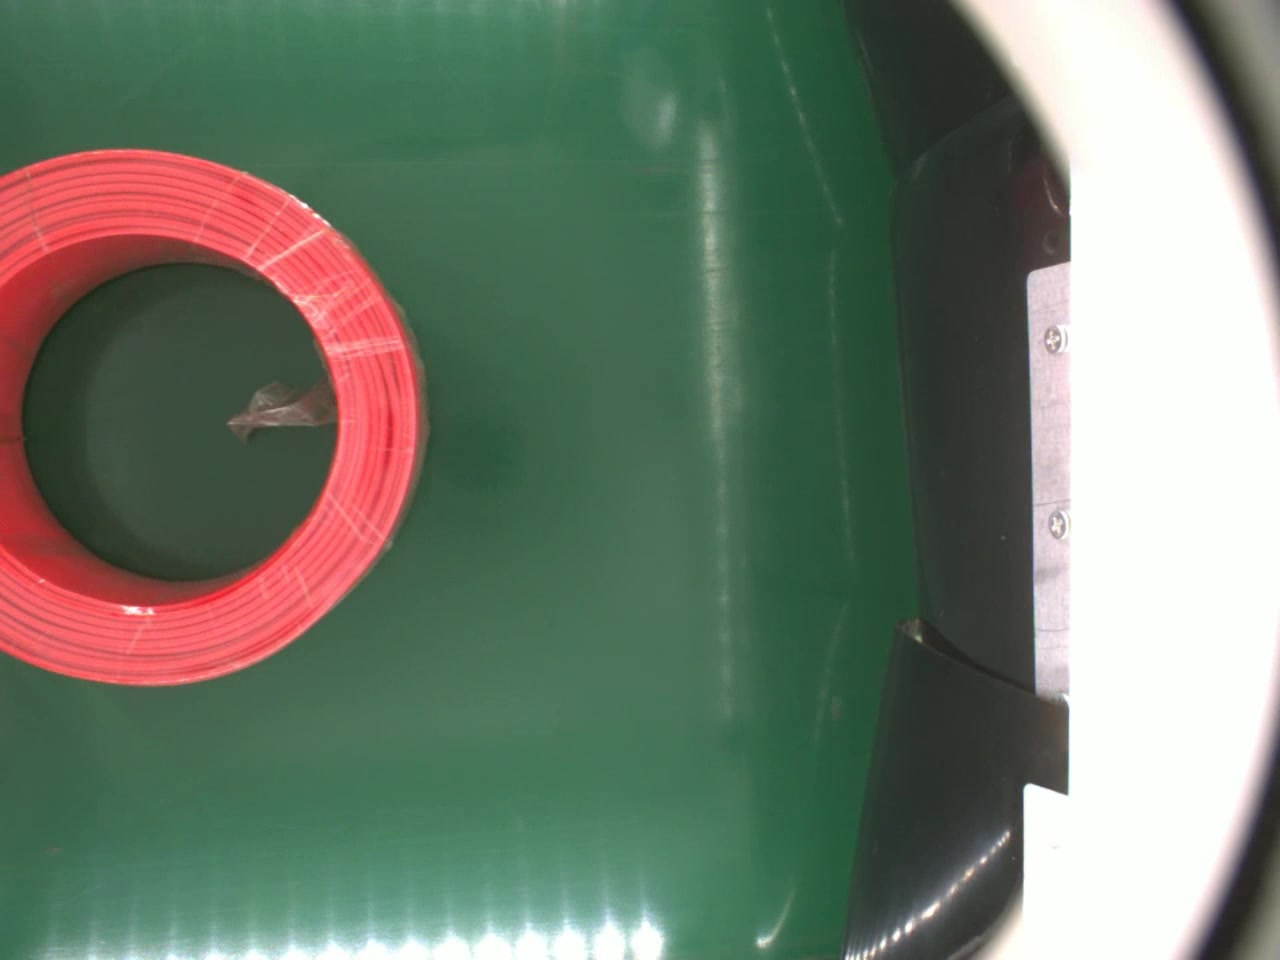red: (0, 147, 427, 684)
